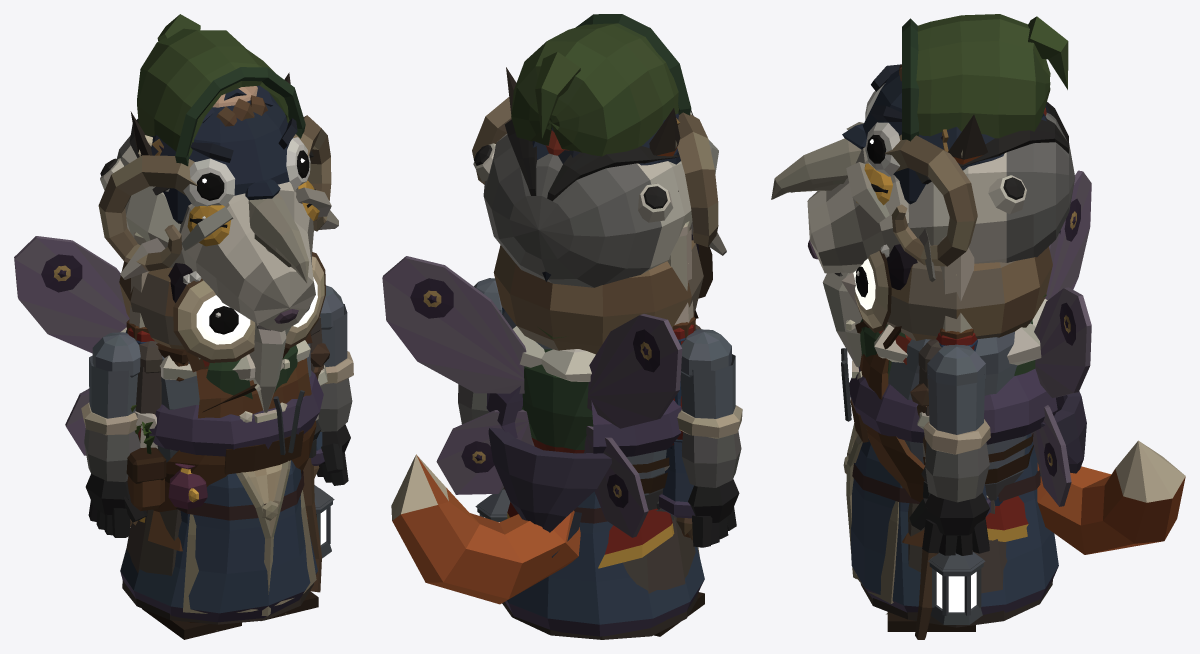
The model's file is characters.glb.
3 renders of one model, left to right at view 1: azimuth 30°, elevation 25°; view 2: azimuth 150°, elevation 25°; view 3: azimuth 270°, elevation 25°, orthographic. The views are drawn at different scales.
Parts seen in each view (by area): view 1: head (×6), body (×5), arm_r (×3), wing_r, arm_l (×3), leg_r, ear_r; view 2: head (×5), body (×5), wing_l, tail, arm_r (×3), wing_r, arm_l (×2), ear_r; view 3: head (×6), body (×5), arm_l (×4), tail, wing_l, wing_r, ear_l, leg_l.
Part boxes in pixels (x1=…): head (×6): x1=98, y1=14, x2=338, y2=412; body (×5): x1=120, y1=327, x2=323, y2=624; arm_r (×3): x1=81, y1=232, x2=162, y2=537; wing_r: x1=14, y1=236, x2=129, y2=455; arm_l (×3): x1=302, y1=285, x2=353, y2=592; leg_r: x1=142, y1=510, x2=241, y2=639; ear_r: x1=130, y1=111, x2=152, y2=156; head (×5): x1=472, y1=14, x2=726, y2=354; body (×5): x1=486, y1=310, x2=704, y2=639; wing_l: x1=382, y1=256, x2=534, y2=494; tail: x1=391, y1=454, x2=580, y2=604; arm_r (×3): x1=659, y1=221, x2=742, y2=547; wing_r: x1=584, y1=314, x2=682, y2=537; arm_l (×2): x1=458, y1=278, x2=510, y2=522; ear_r: x1=649, y1=108, x2=680, y2=156; head (×6): x1=771, y1=14, x2=1075, y2=367; body (×5): x1=841, y1=299, x2=1086, y2=627; arm_l (×4): x1=909, y1=237, x2=990, y2=639; tail: x1=1037, y1=440, x2=1185, y2=554; wing_l: x1=1031, y1=287, x2=1091, y2=506; wing_r: x1=1045, y1=170, x2=1091, y2=299; ear_l: x1=948, y1=115, x2=987, y2=164; leg_l: x1=887, y1=612, x2=975, y2=631.
Bounding box in the file's own units: 0.8841 × 1.67 × 1.08.
